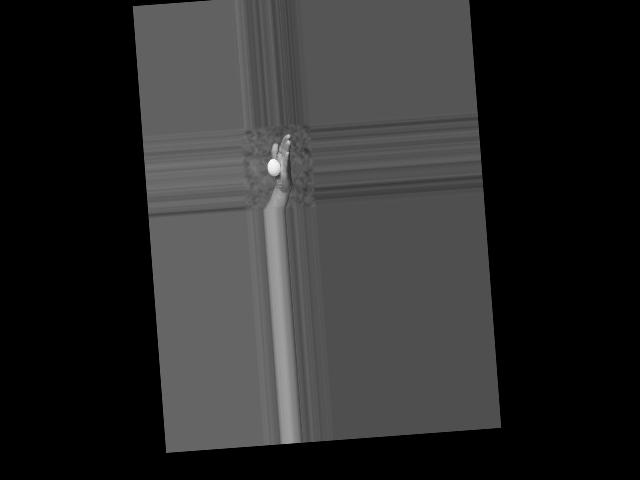egg: (266, 158, 281, 177)
